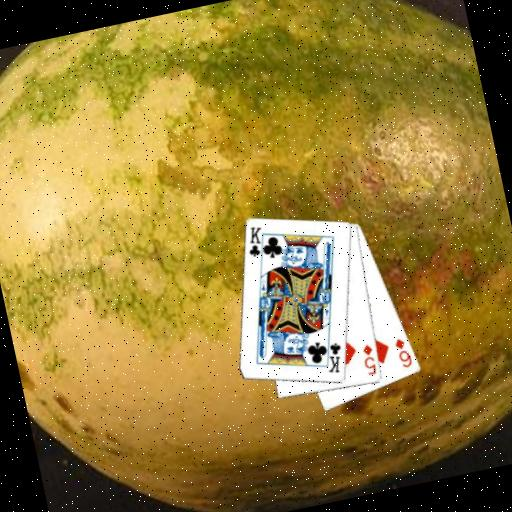5D: (357, 341, 379, 377)
6D: (390, 333, 415, 371)
KC: (316, 334, 347, 377), (240, 222, 271, 265)
